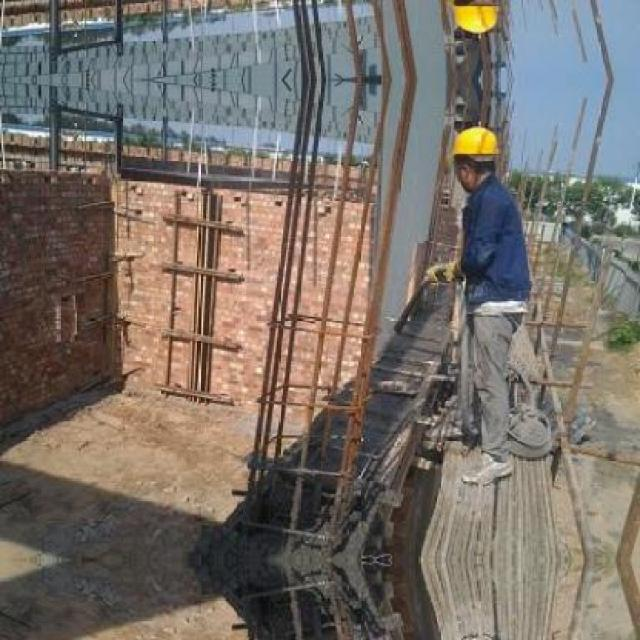helmet: (448, 119, 503, 192), (448, 0, 504, 43)
